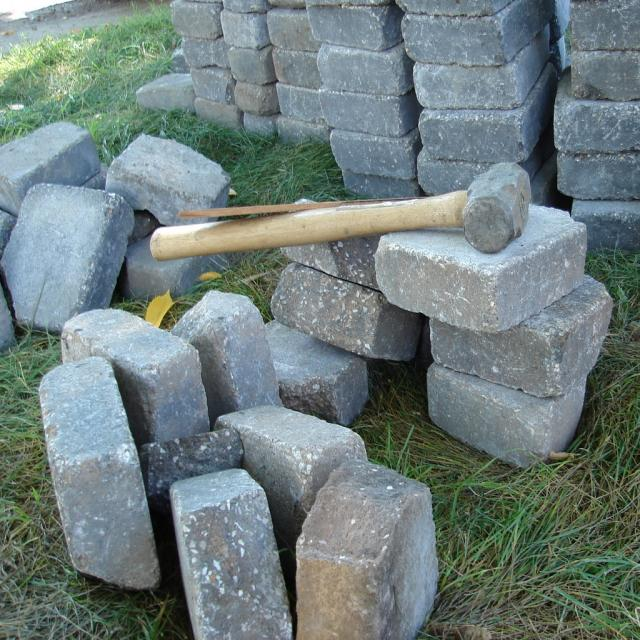hammer: (146, 160, 532, 262)
